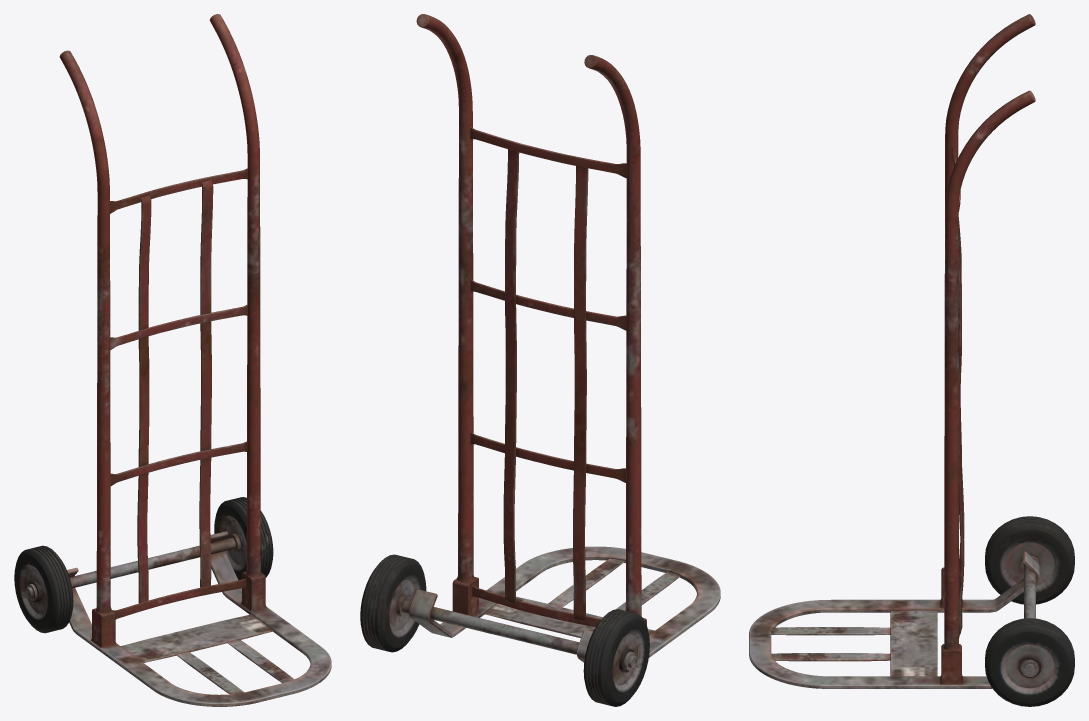
File: hand_truck.glb
3 renders of one model, left to right at view 1: azimuth 30°, elevation 25°; view 2: azimuth 150°, elevation 25°; view 3: azimuth 270°, elevation 25°, orthographic. The views are drawn at different scales.
Visible parts, largest first — view 1: hand_truck; view 2: hand_truck; view 3: hand_truck.
Part boxes in pixels (bbox=[...]): hand_truck: bbox=[14, 14, 331, 706]; hand_truck: bbox=[360, 14, 720, 706]; hand_truck: bbox=[749, 14, 1074, 706].
Bounding box in the file's own units: 0.5933 × 1.4 × 0.6926.
Materials: 1 (1 with a texture image).
